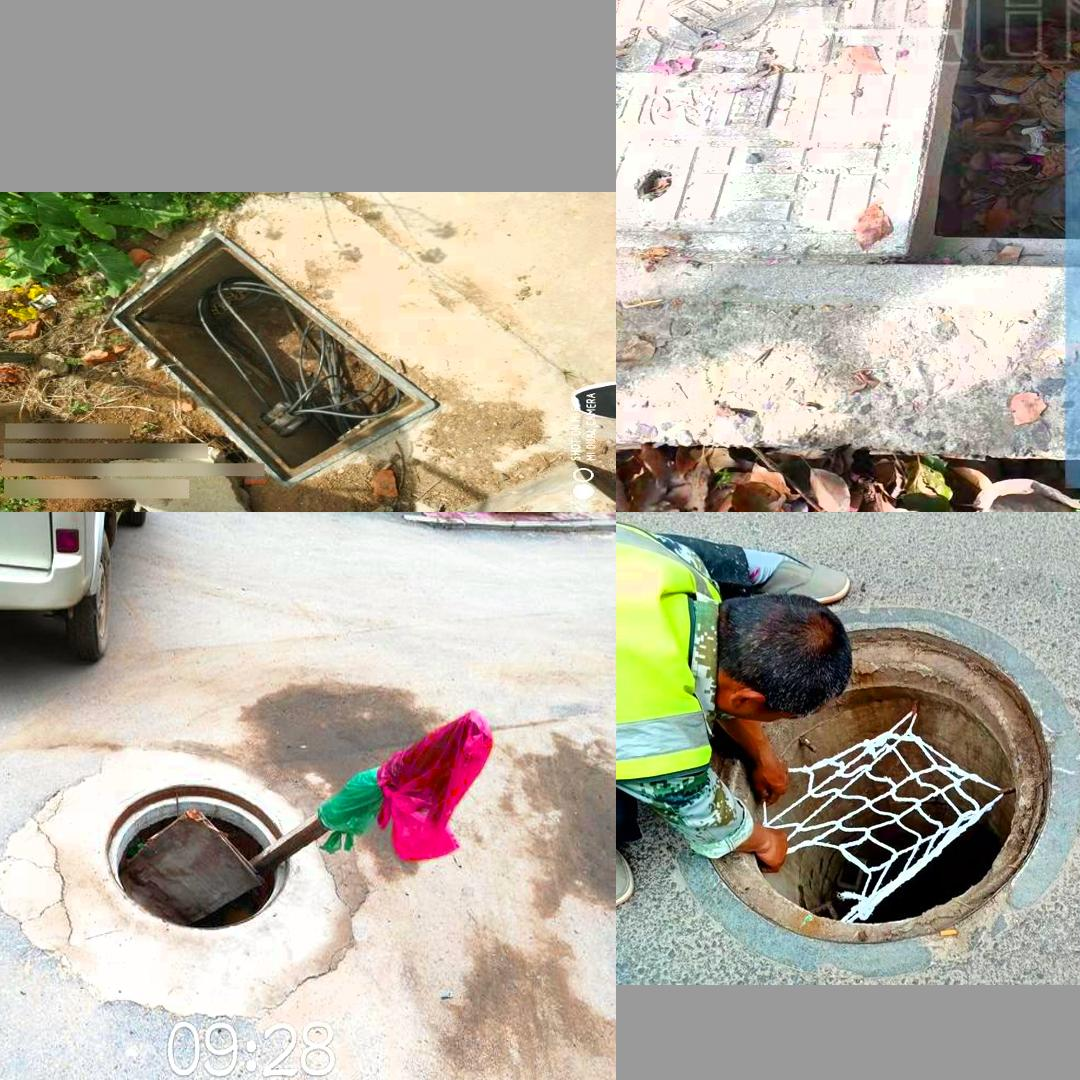lose: (619, 0, 1080, 399), (687, 610, 1067, 953), (110, 231, 437, 491), (73, 766, 308, 948)
